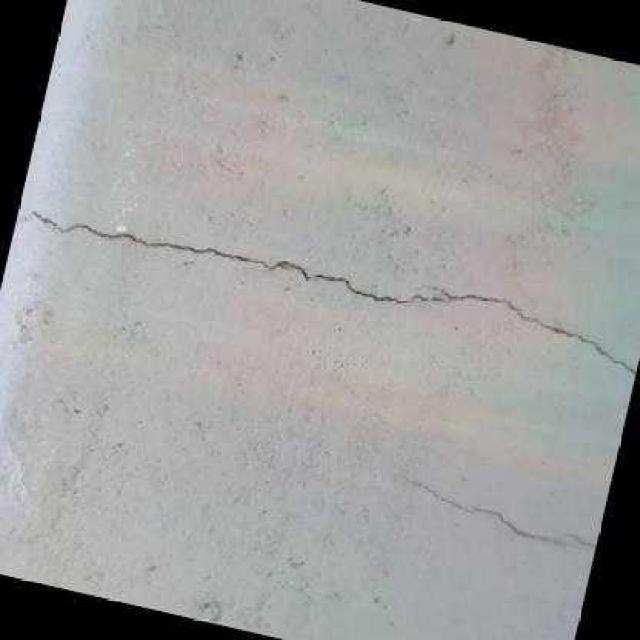D00: (14, 208, 636, 373)
